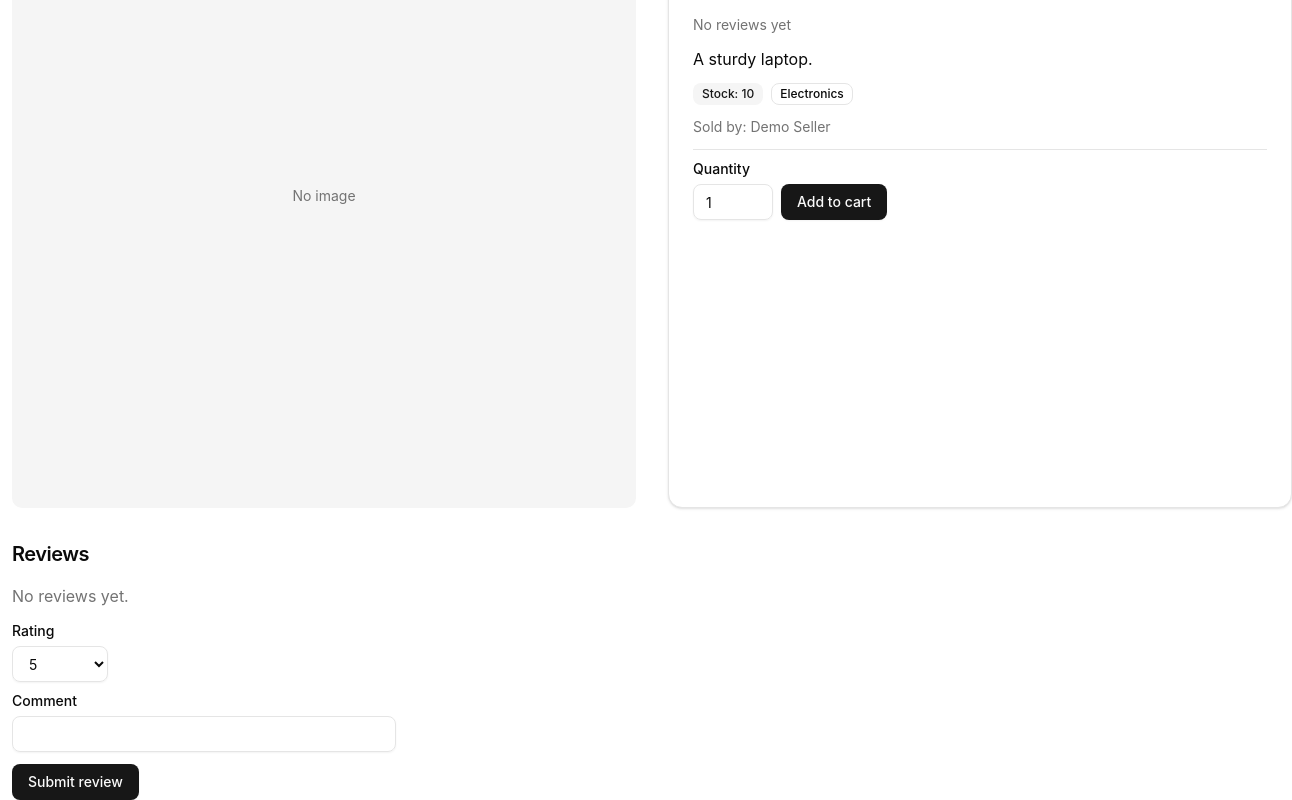
it: ProductDetailPage › shows the eligibility error inline when not yet allowed to review
(page scrolled)
Type "Too soon" into the field labelled "Comment" at (204, 734), box left=12, top=716, right=396, bottom=752
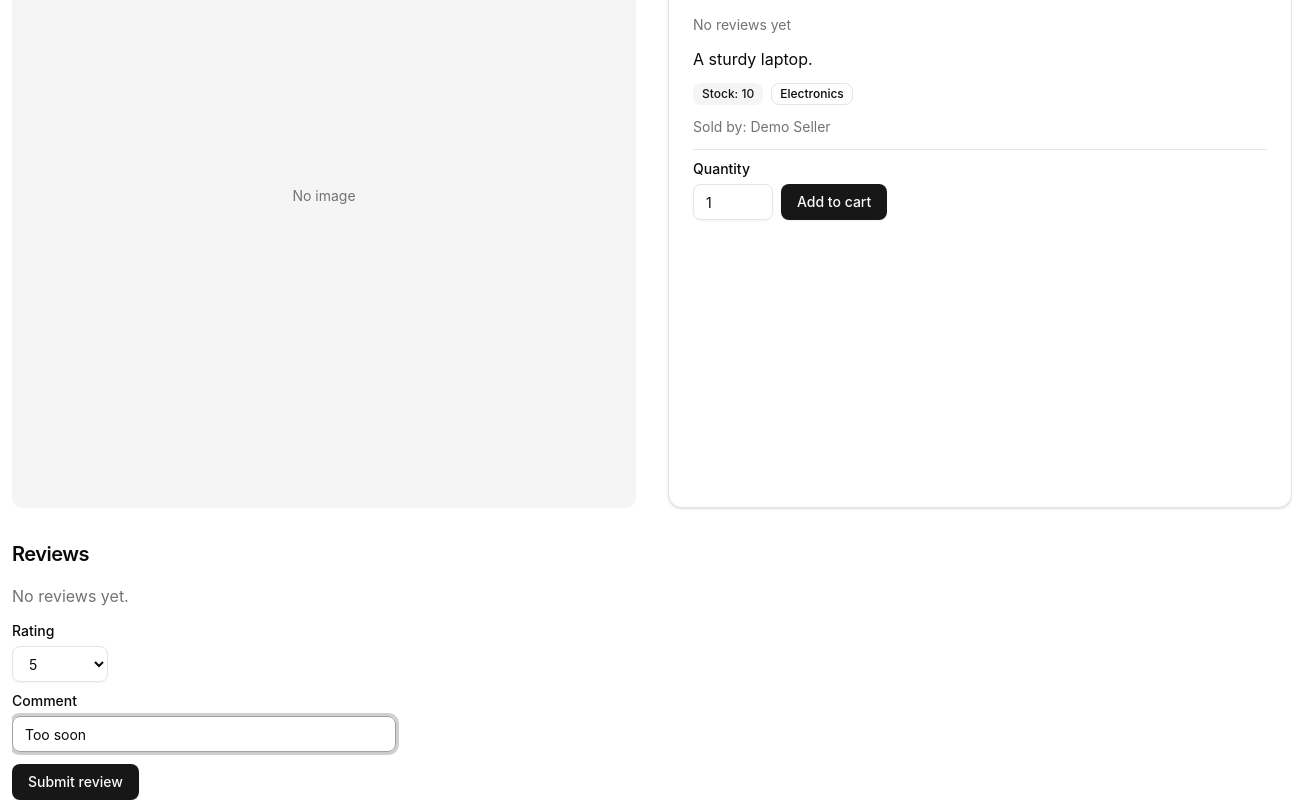
Click the button "Submit review" at (75, 782), box left=12, top=764, right=139, bottom=799
(page scrolled)
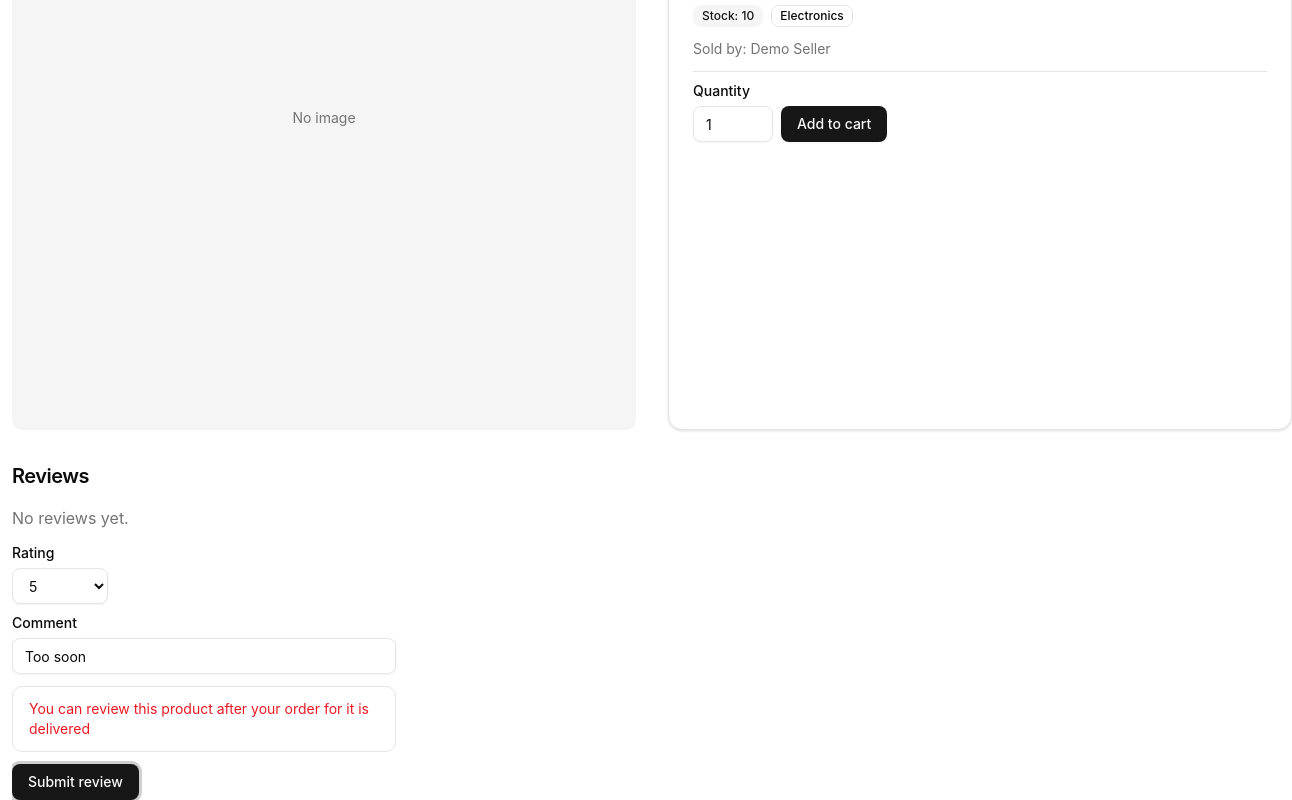
Result: the text "after your order for it is delivered" is shown at left=29, top=700, right=369, bottom=737
